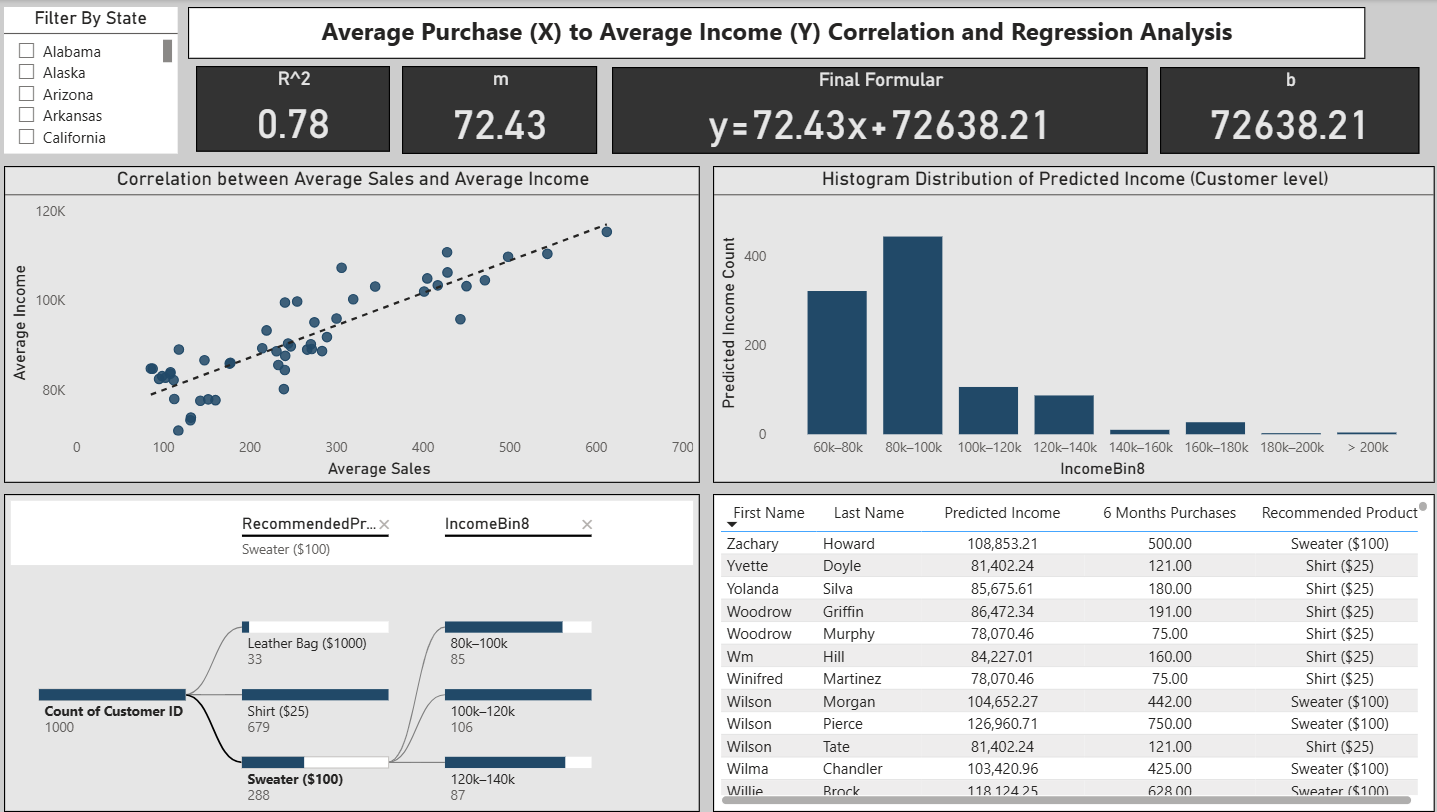

The page's visual inventory and layout, read from the dashboard file:
{"tool":"powerbi","page":{"name":"Average Purchase & Average Income","canvas":[1280,720],"ordinal":1},"visuals":[{"type":"scatterChart","title":"Correlation between Average Sales and Average Income","fields":{"X":["Regression Table.Avreage Sales"],"Y":["Regression Table.Average Income"]},"box":[4.7,147,617.4,280.9],"z":0},{"type":"card","title":"R^2","fields":{"Values":["Regression Table.Sum of Avreage Sales and Sum of Average Income correlation for Average Income"]},"box":[174.4,58.4,172.5,76.3],"z":1000},{"type":"card","title":"b","fields":{"Values":["Regression Table.b"]},"box":[1029.3,59.4,230,77.3],"z":2000},{"type":"card","title":"m","fields":{"Values":["Regression Table.m"]},"box":[357.2,58.4,173.4,78.2],"z":3000},{"type":"card","title":"Final Formular","fields":{"Values":["Regression Table.Final Formula"]},"box":[543.9,59.4,475.1,77.3],"z":4000},{"type":"textbox","box":[167.8,6.6,1044.4,46.2],"z":5000},{"type":"columnChart","title":"Histogram Distribution of Predicted Income (Customer level)","fields":{"Y":["Customer List.Predicted Income"],"Category":["Customer List.IncomeBin8"]},"box":[633.4,147,640,280.9],"z":6000},{"type":"decompositionTreeVisual","fields":{"Analyze":["Customer List.Customer ID"],"ExplainBy":["Customer List.RecommendedProduct (Fixed)","Customer List.IncomeBin8"]},"box":[4.7,438.3,617.4,281.8],"z":7000},{"type":"tableEx","fields":{"Values":["Customer List.First Name","Customer List.Last Name","Customer List.Predicted Income","Customer List.Last 6 Months Purchases","Customer List.RecommendedProduct (Fixed)"]},"box":[633.4,438.3,640,281.8],"z":8000},{"type":"slicer","title":"Filter By State","fields":{"Values":["Regression_Tbl1.State"]},"box":[4.7,6.6,153.6,130.1],"z":9000}]}

Visuals, with their boxes in screenshot pixels (x1, y1, x2, y2), scaled from the page's 1280x720 canvas onto the 1437x812 screenshot:
"Correlation between Average Sales and Average Income" scatterChart: locate(5, 166, 698, 483)
"R^2" card: locate(196, 66, 389, 152)
"b" card: locate(1156, 67, 1414, 154)
"m" card: locate(401, 66, 596, 154)
"Final Formular" card: locate(611, 67, 1144, 154)
textbox: locate(188, 7, 1361, 60)
"Histogram Distribution of Predicted Income (Customer level)" columnChart: locate(711, 166, 1430, 483)
decompositionTreeVisual - Customer List.Customer ID x Customer List.RecommendedProduct (Fixed): locate(5, 494, 698, 811)
tableEx - Customer List.First Name x Customer List.Last Name: locate(711, 494, 1430, 811)
"Filter By State" slicer: locate(5, 7, 178, 154)
